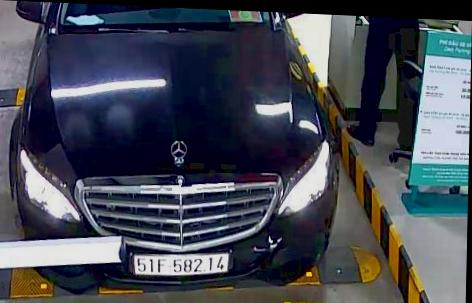License_Plate: (134, 248, 231, 276)
